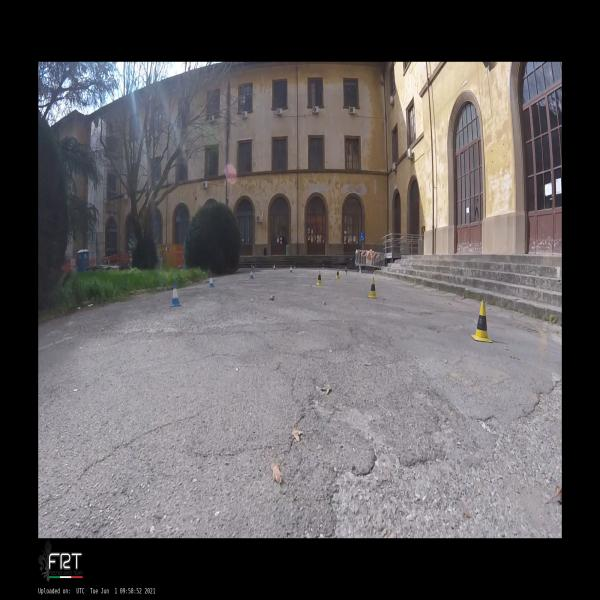blue_cone: (170, 282, 180, 307), (208, 274, 215, 287), (249, 269, 254, 279), (290, 265, 294, 273), (273, 264, 276, 270), (252, 264, 254, 270)
yellow_cone: (471, 301, 492, 342), (368, 276, 377, 298), (316, 270, 322, 284), (336, 269, 340, 280), (344, 266, 347, 276), (322, 263, 324, 269), (294, 263, 296, 268)
